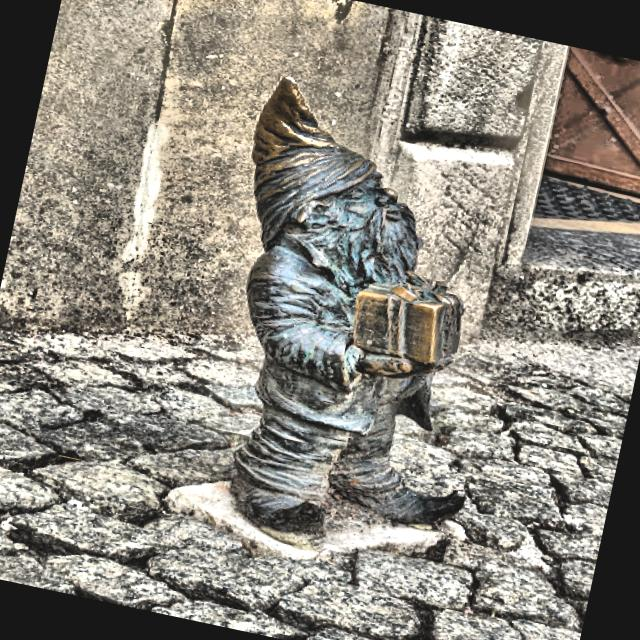Suvenirek: (232, 78, 461, 538)
